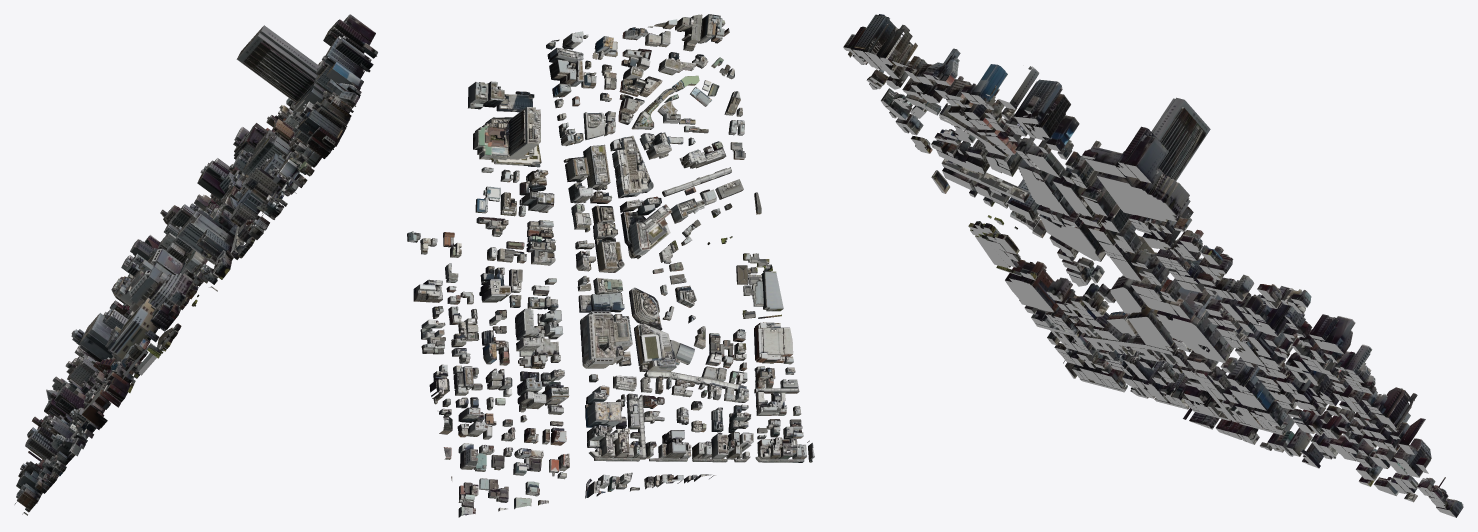
The model's file is 9882_bldg_Building.glb.
The picture shows the model from 3 angles, left to right: view 1: azimuth 30°, elevation 25°; view 2: azimuth 150°, elevation 25°; view 3: azimuth 270°, elevation 25°; orthographic projection. The views are drawn at different scales.
Bounding box in the file's own units: 496 × 521 × 610.
10 materials, 9 textured.
